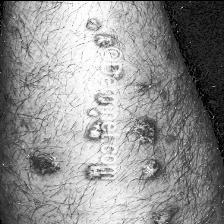Non-Cancerous Skin Condition: (16, 90, 97, 202), (128, 74, 181, 224), (45, 1, 137, 44)
